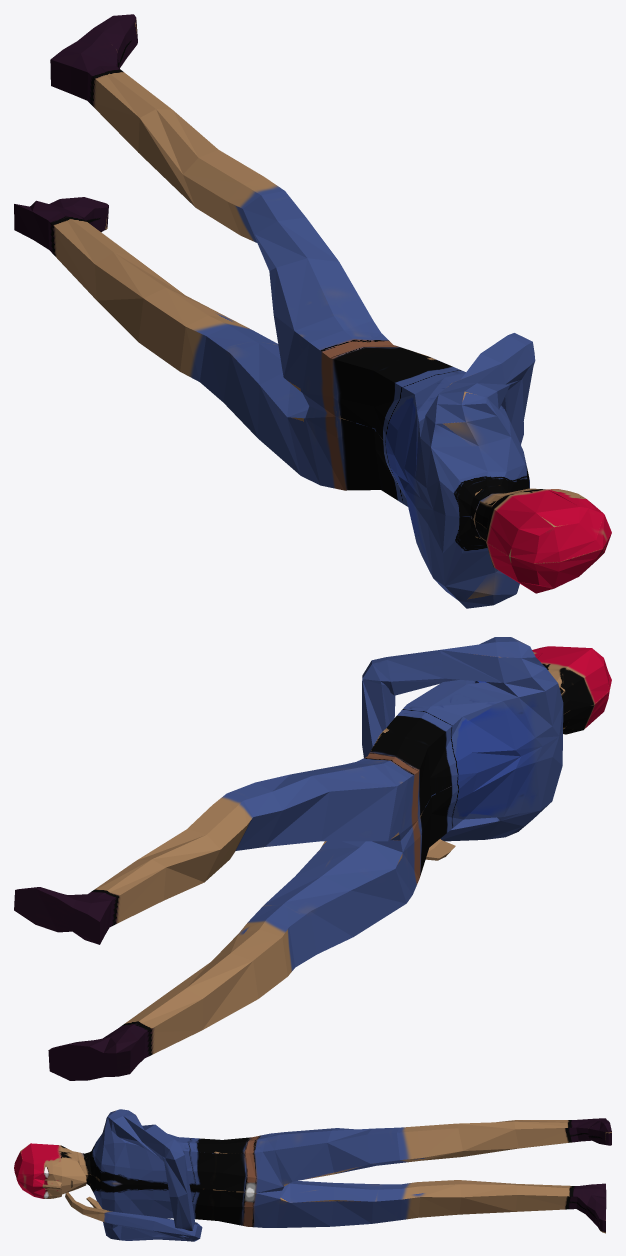
File: mirrorman_000017.obj
3 views of the same model, one above another, from view 1: azimuth 30°, elevation 25°; view 2: azimuth 150°, elevation 25°; view 3: azimuth 270°, elevation 25° (orthographic). The views are drawn at different scales.
Parts seen in each view (by area): view 1: mirrorman_Cube.001_Material.001; view 2: mirrorman_Cube.001_Material.001; view 3: mirrorman_Cube.001_Material.001.
Boxes of the visible parts, x1,y1,x2,y2 form: mirrorman_Cube.001_Material.001: (14, 14, 611, 608); mirrorman_Cube.001_Material.001: (14, 637, 611, 1080); mirrorman_Cube.001_Material.001: (14, 1109, 611, 1241).
Size of the model in its own units: 0.3296 by 0.4722 by 1.91.
1 material, 1 textured.
